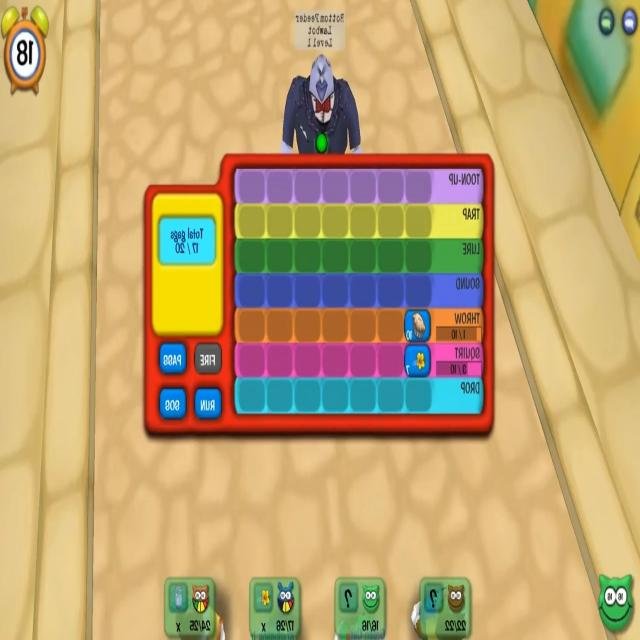bottomfeeder: (278, 15, 370, 152)
